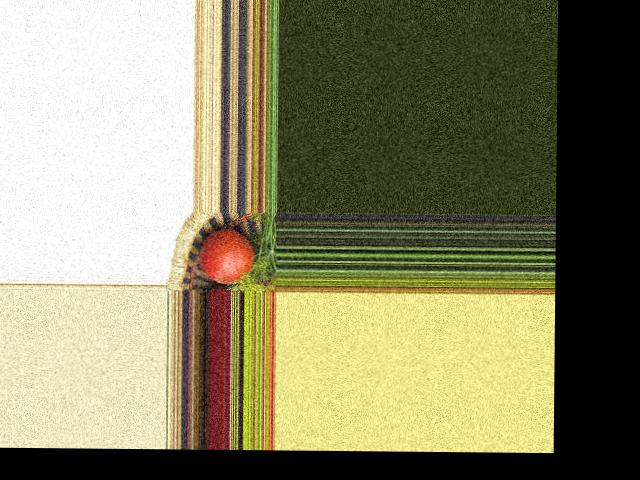tomato: (199, 229, 256, 284)
